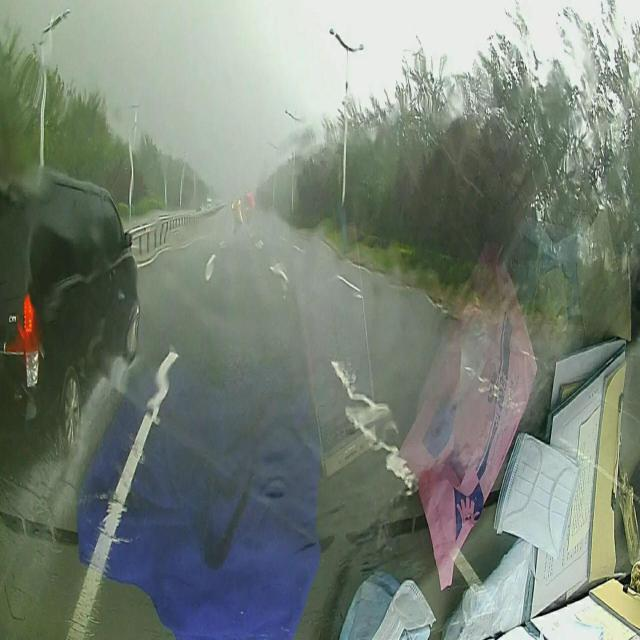car: (0, 173, 138, 449)
